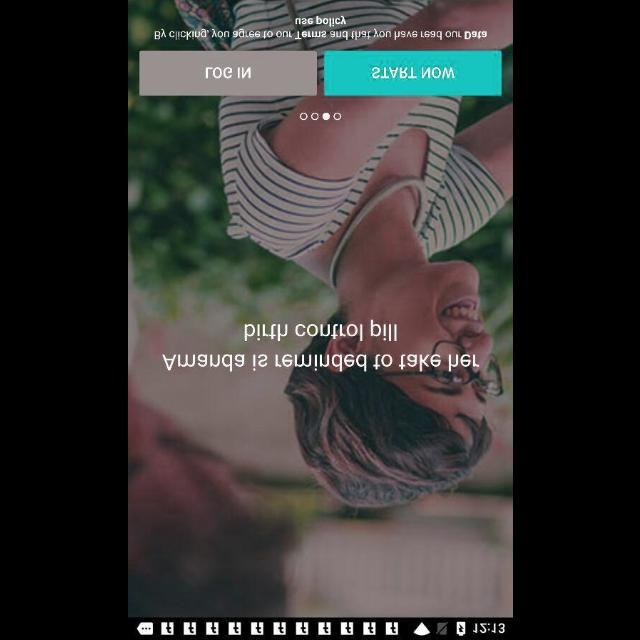backgroundimage: (128, 0, 512, 616)
pageindicator: (298, 111, 342, 121)
text: (161, 320, 479, 372), (154, 15, 486, 40)
textbutton: (322, 50, 502, 96), (139, 50, 317, 96)
uppertaskbar: (128, 617, 512, 639)
